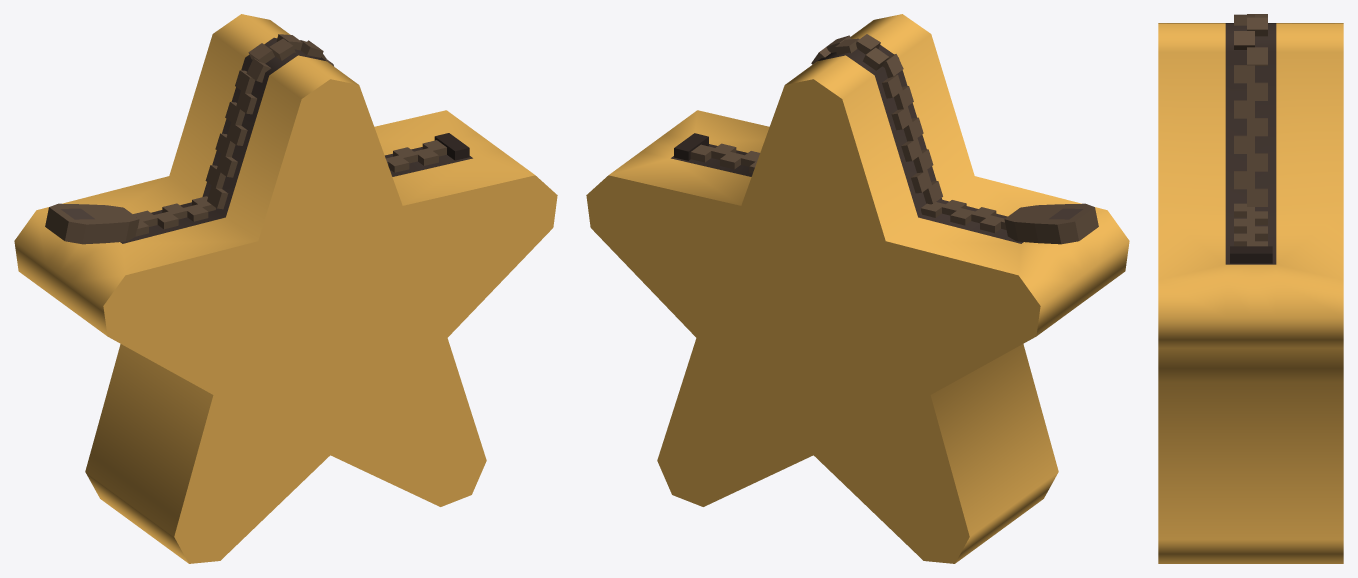
Rendered from Back_10.fbx.
3 views of the same model, side by side, from view 1: azimuth 30°, elevation 25°; view 2: azimuth 150°, elevation 25°; view 3: azimuth 270°, elevation 25° (orthographic). The views are drawn at different scales.
Parts seen in each view (by area): view 1: Back_10; view 2: Back_10; view 3: Back_10.
Boxes of the visible parts, x1,y1,x2,y2 form: Back_10: (14,14,557,563); Back_10: (586,14,1129,563); Back_10: (1158,14,1343,563).
Size of the model in its own units: 57.65 by 55.53 by 19.39.
